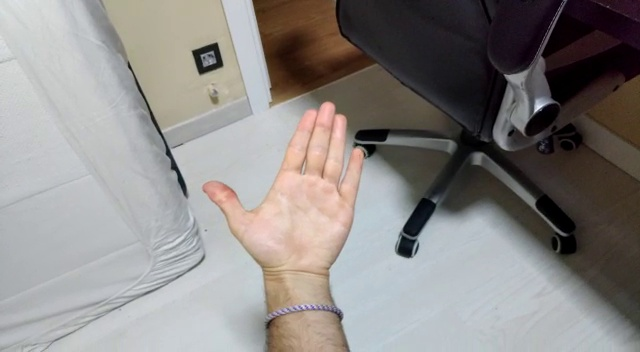Palm: (202, 101, 367, 277)
